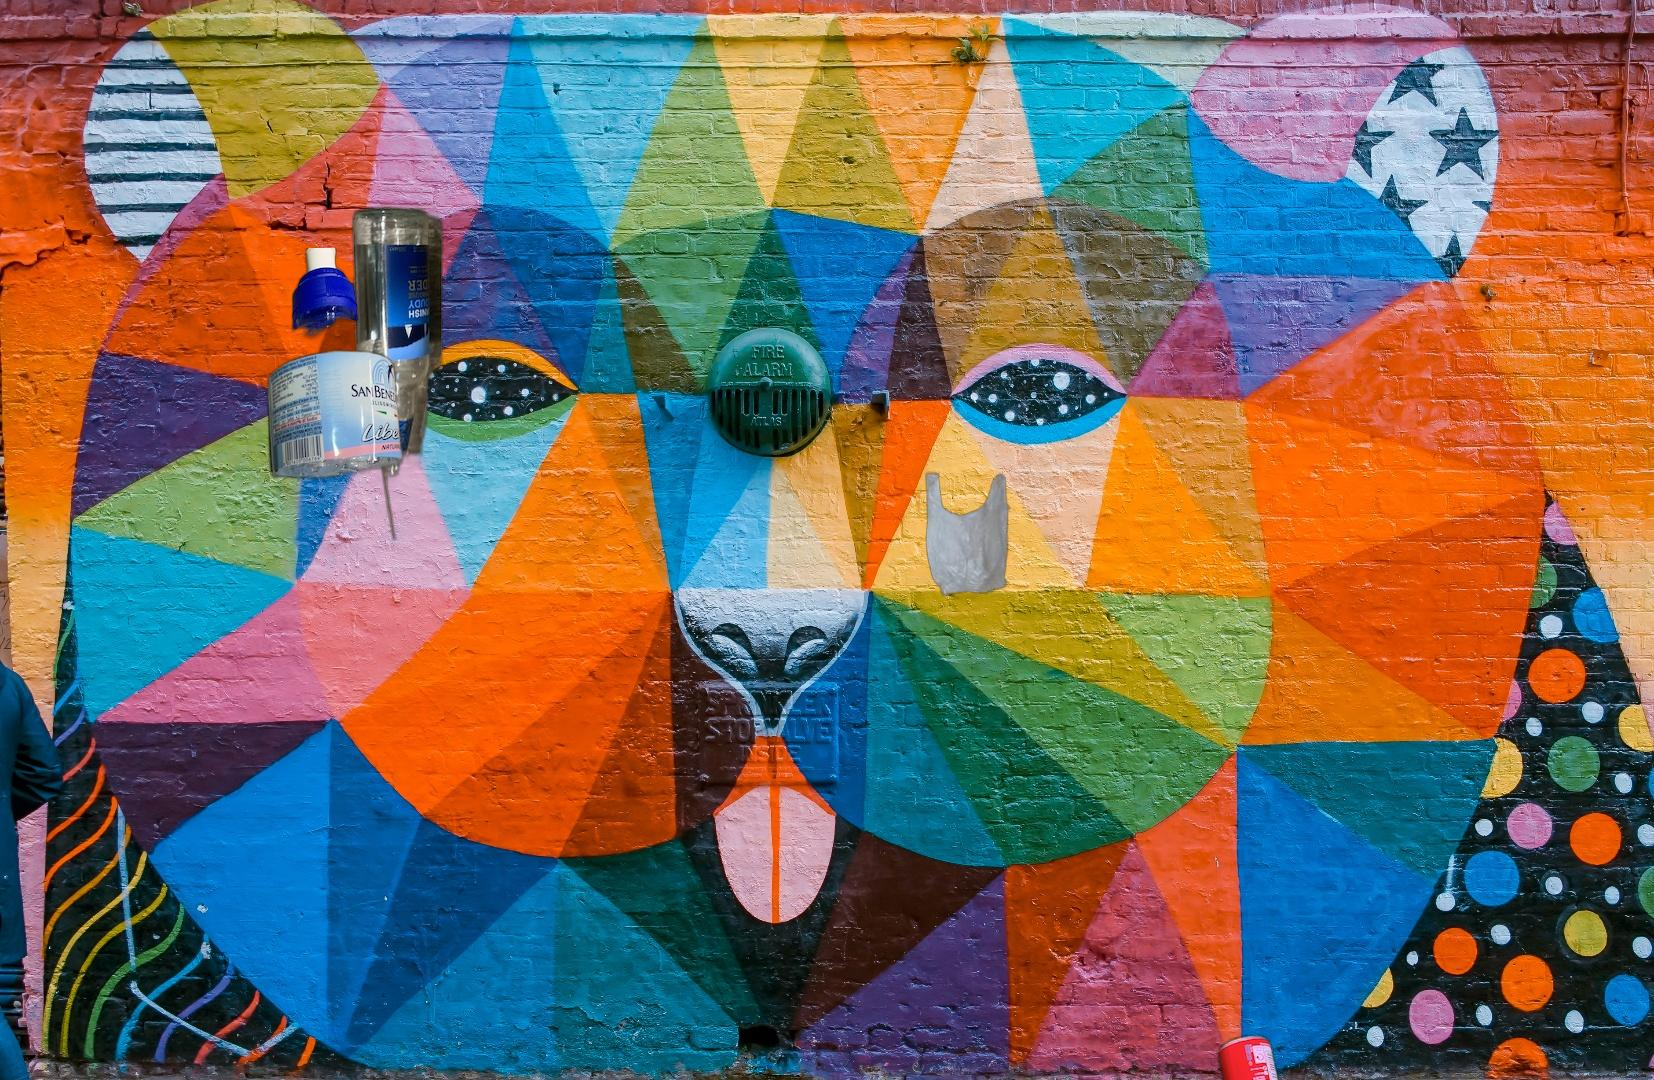glass: (348, 200, 447, 545)
metal-cans: (1214, 1029, 1301, 1080)
plastic-bag: (923, 471, 1011, 599)
plastic-bottles: (176, 248, 459, 746)
